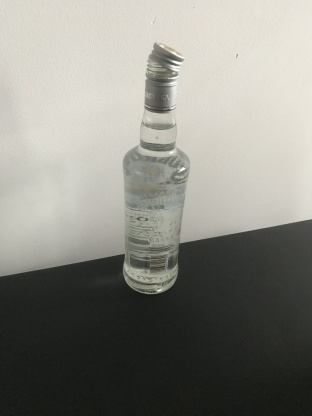nakretka: (143, 39, 185, 113)
